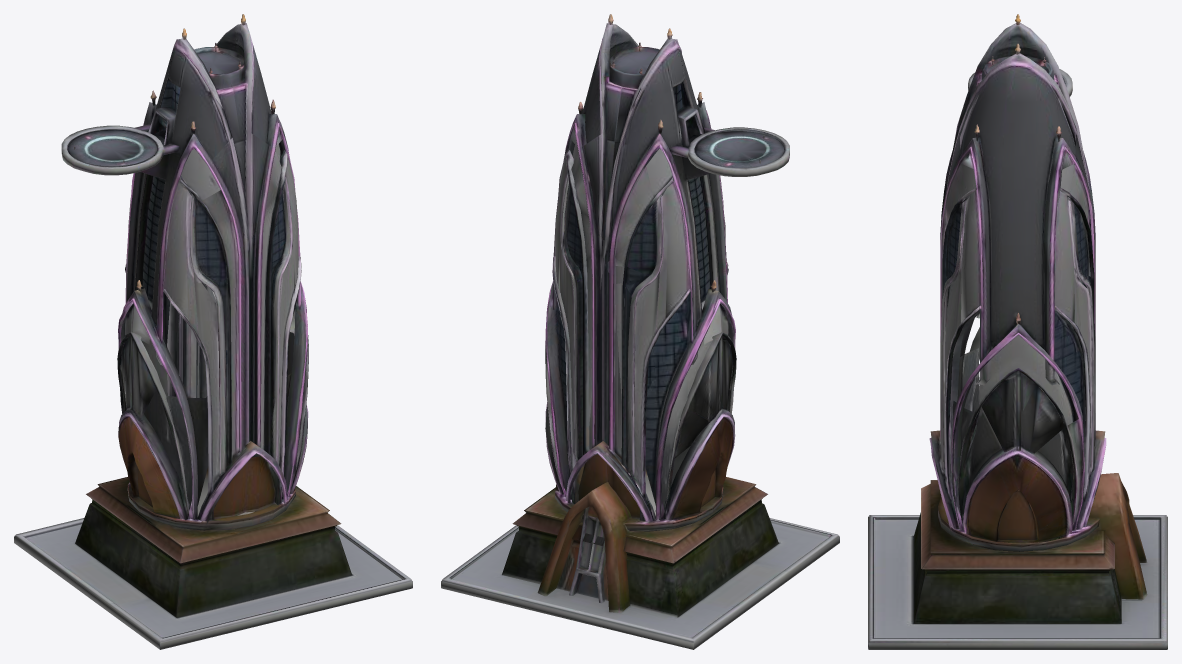
Rendered from lm_lotus_tower.glb.
3 views of the same model, side by side, from view 1: azimuth 30°, elevation 25°; view 2: azimuth 150°, elevation 25°; view 3: azimuth 270°, elevation 25° (orthographic). The views are drawn at different scales.
Parts seen in each view (by area): view 1: Body; view 2: Body; view 3: Body.
Part boxes in pixels (bbox=[...]): Body: bbox=[14, 14, 412, 649]; Body: bbox=[441, 14, 839, 649]; Body: bbox=[868, 14, 1167, 649].
Bounding box in the file's own units: 41.8 × 80 × 38.98.
Materials: 1 (1 with a texture image).
